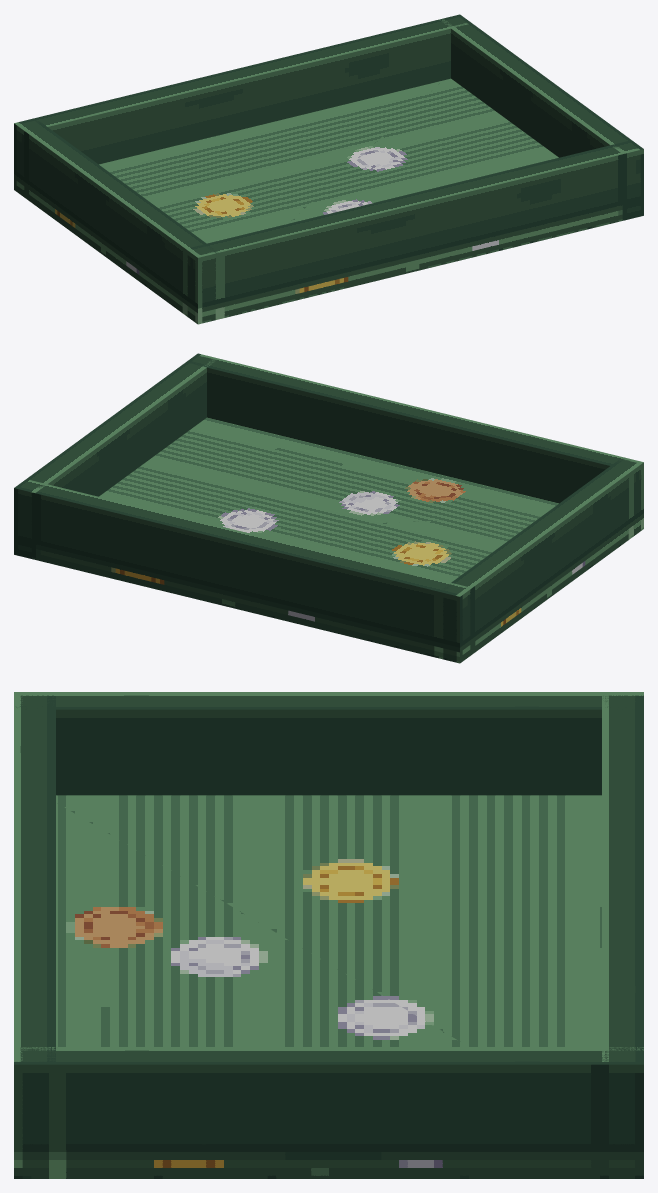
Rendered from cointray.glb.
3 views of the same model, one above another, from view 1: azimuth 30°, elevation 25°; view 2: azimuth 150°, elevation 25°; view 3: azimuth 270°, elevation 25° (orthographic). The views are drawn at different scales.
Visible parts, largest first — view 1: mesh; view 2: mesh; view 3: mesh.
Boxes of the visible parts, x1,y1,x2,y2 form: mesh: (14,14,643,324); mesh: (14,353,643,663); mesh: (14,692,643,1178).
Bounding box in the file's own units: 0.168 × 0.024 × 0.12.
1 material, 1 textured.
